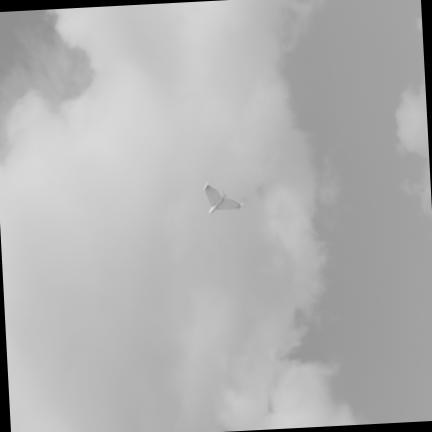Shahed: (203, 180, 244, 213)
